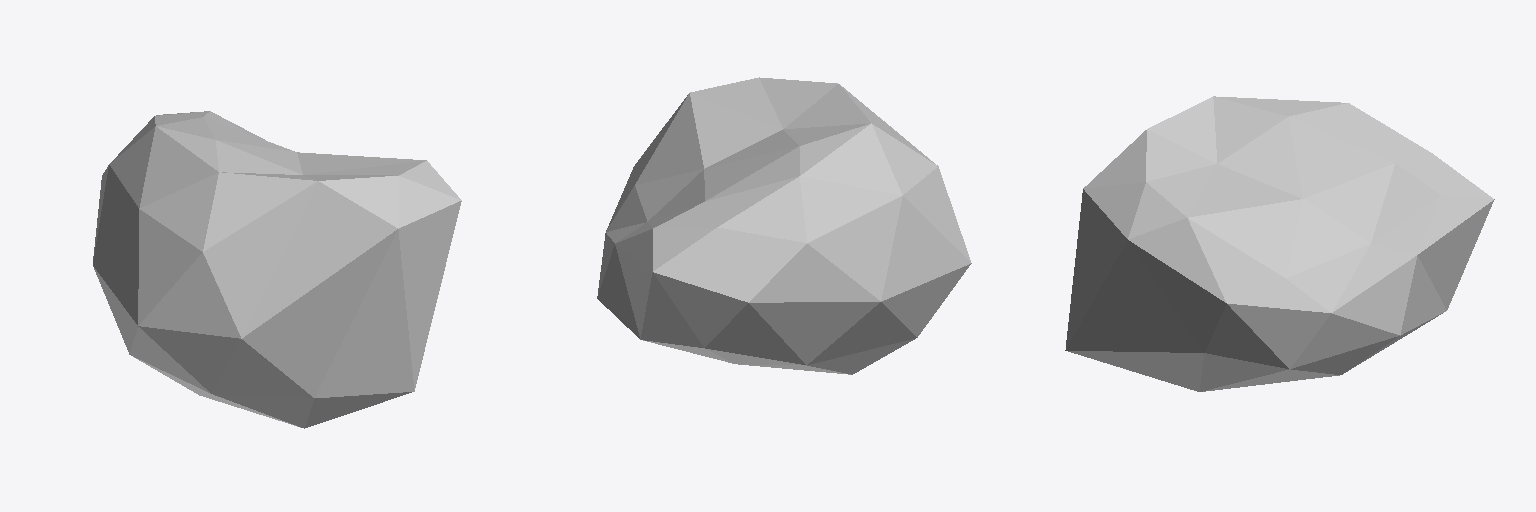
The model's file is rock2.obj.
3 views of the same model, side by side, from view 1: azimuth 30°, elevation 25°; view 2: azimuth 150°, elevation 25°; view 3: azimuth 270°, elevation 25° (orthographic).
Parts seen in each view (by area): view 1: r3_Icosphere; view 2: r3_Icosphere; view 3: r3_Icosphere.
Boxes of the visible parts, x1=… form: r3_Icosphere: x1=93, y1=111, x2=461, y2=428; r3_Icosphere: x1=597, y1=77, x2=971, y2=374; r3_Icosphere: x1=1065, y1=96, x2=1494, y2=391.
Size of the model in its own units: 2.24 by 1.67 by 2.59.